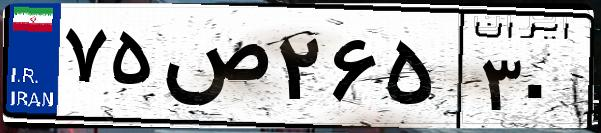0: (525, 38, 570, 115)
2: (270, 28, 330, 110)
3: (475, 38, 525, 113)
5: (385, 28, 445, 110), (110, 28, 158, 98)
6: (330, 28, 385, 110)
7: (57, 26, 110, 100)
ص: (158, 20, 270, 120)
